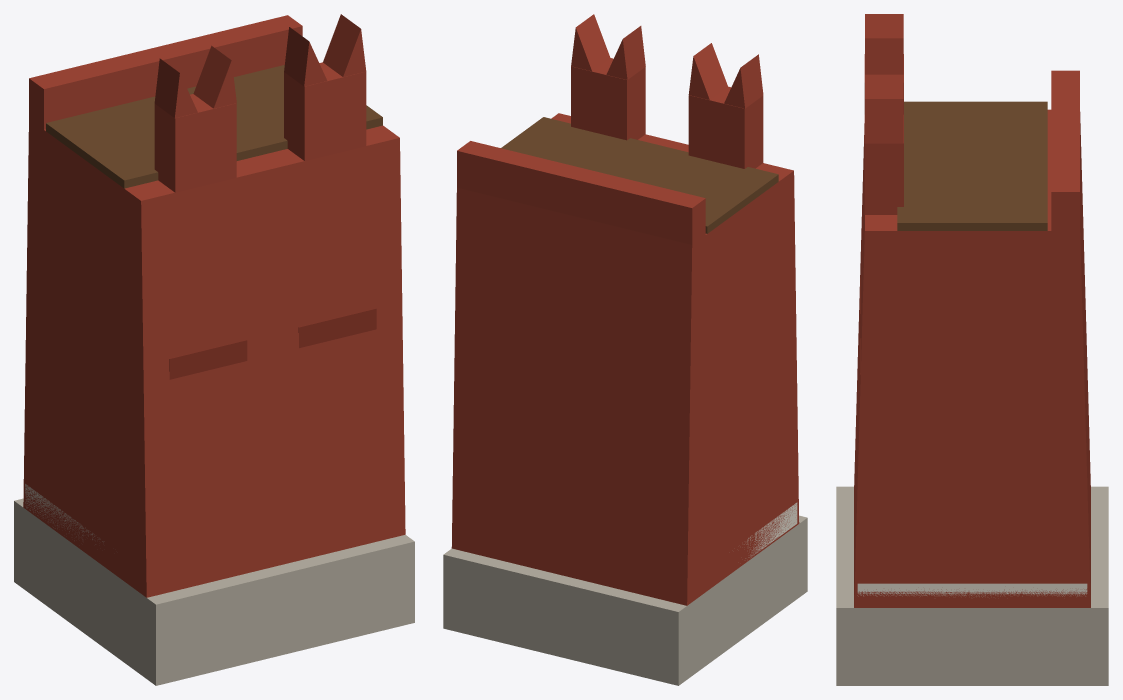
Rendered from wall.glb.
The picture shows the model from 3 angles, left to right: view 1: azimuth 30°, elevation 25°; view 2: azimuth 150°, elevation 25°; view 3: azimuth 270°, elevation 25°; orthographic projection. The views are drawn at different scales.
Parts seen in each view (by area): view 1: Wall; view 2: Wall; view 3: Wall.
Part boxes in pixels (bbox=[...]): Wall: bbox=[14, 14, 414, 685]; Wall: bbox=[443, 14, 807, 685]; Wall: bbox=[836, 14, 1108, 685].
Bounding box in the file's own units: 4 × 8.75 × 3.8.
